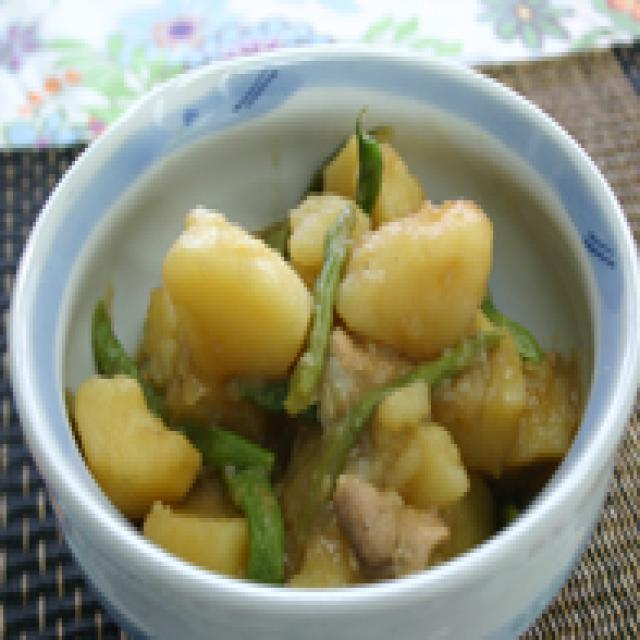牛肉菜式: (49, 122, 578, 583)
